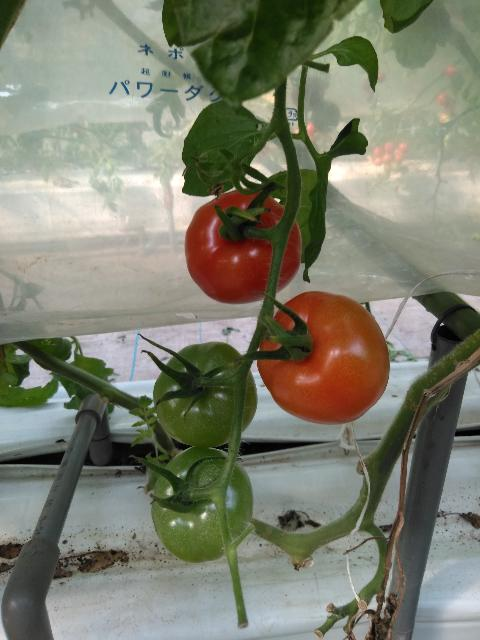l_fully_ripened: (184, 188, 302, 304)
l_green: (151, 446, 254, 563), (152, 341, 259, 448)
l_half_ripened: (257, 290, 390, 425)
